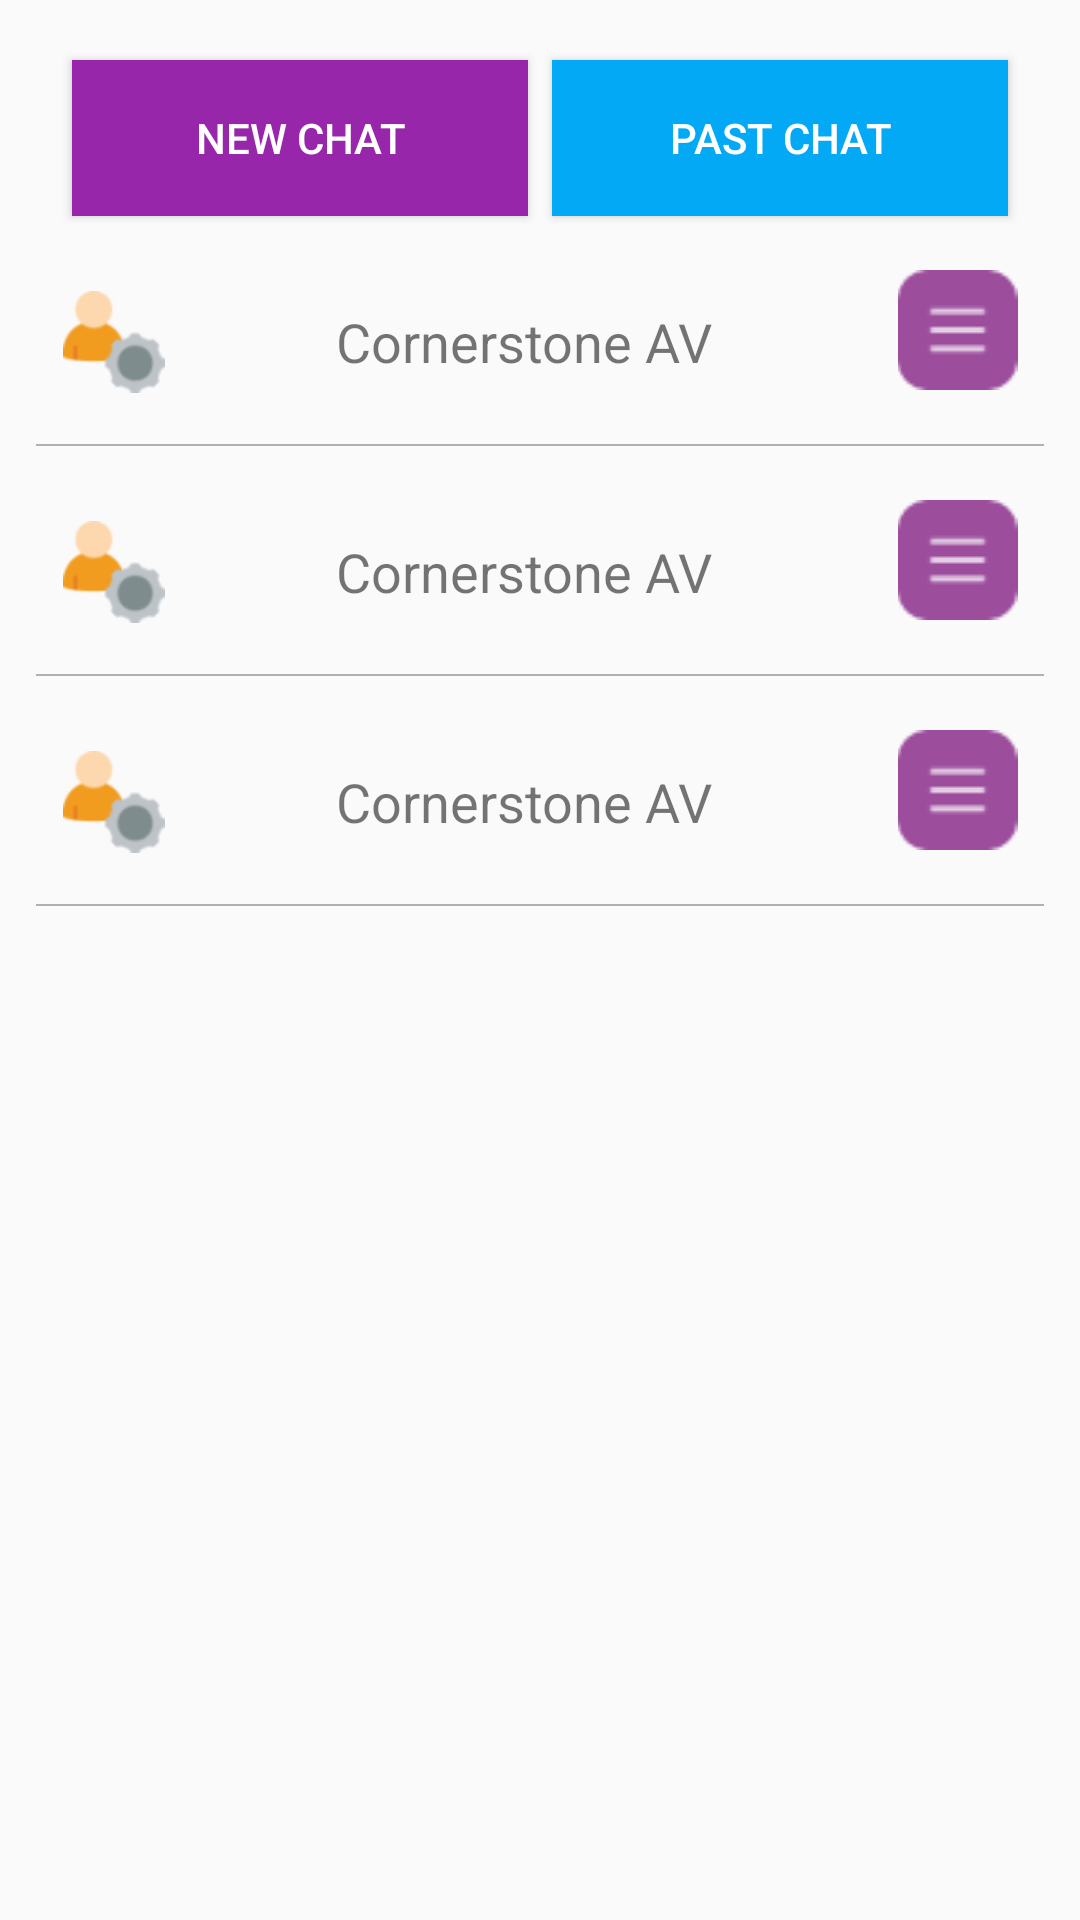

Where icons sit on this 1080 × 1920 app screen, as (x1, y1, x2, y2):
menu: (898, 270, 1018, 390), (898, 500, 1018, 620), (898, 730, 1018, 850)
user profile: (63, 291, 165, 393), (63, 521, 165, 623), (63, 751, 165, 853)
